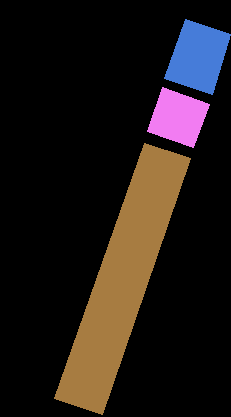parkingspot: (54, 143, 190, 414), (164, 19, 230, 94), (147, 87, 209, 147)
